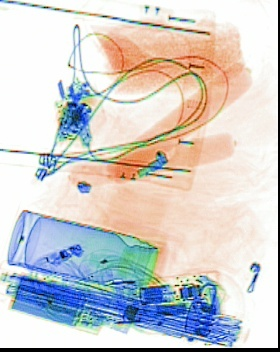powerbank: (8, 273, 114, 335)
